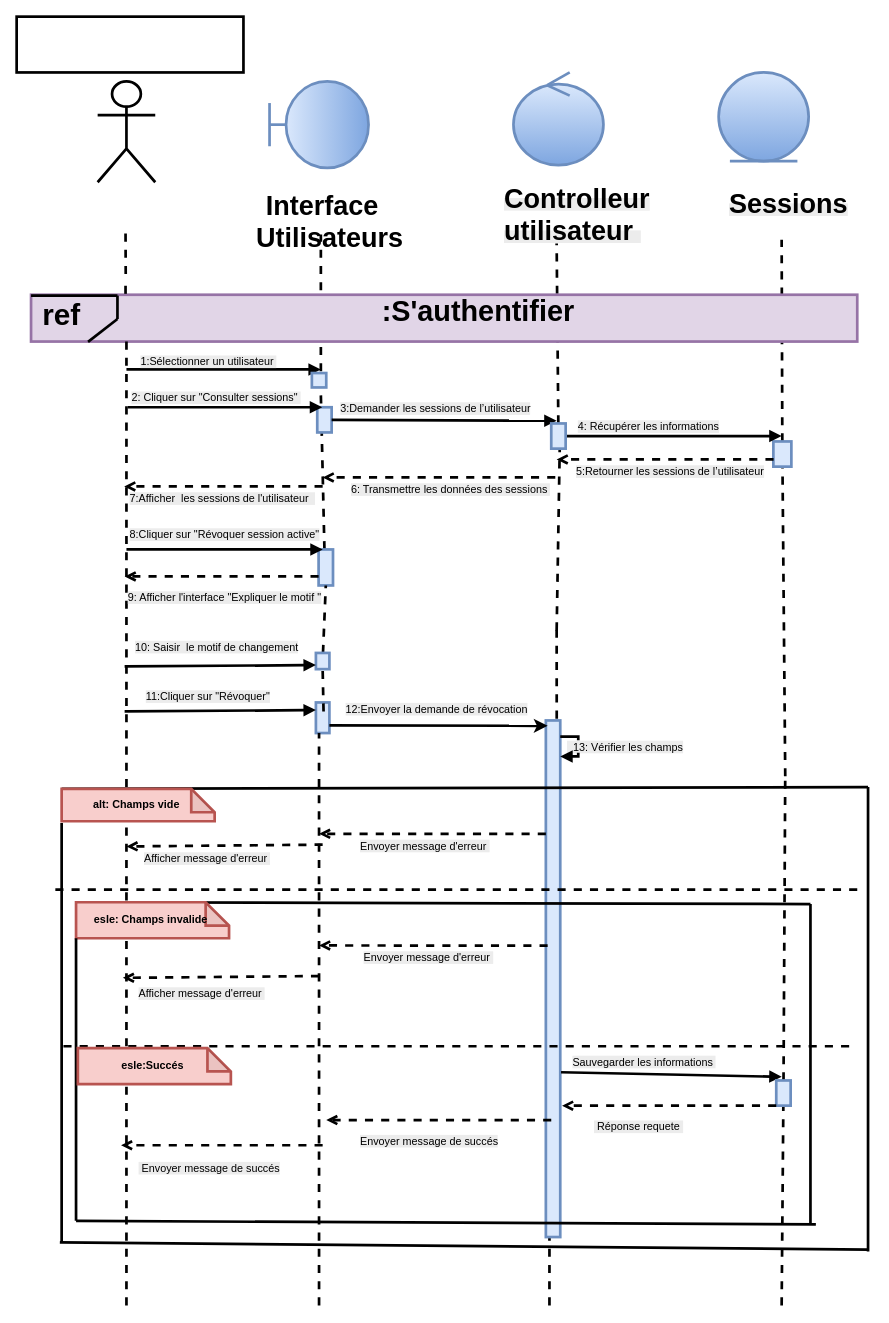
This 889x1323 diagram has some shape labels left out. Each missing label, with the centre of its shape:
"Magasinier" goes at (126,131).
"sd :Révoquer session" goes at (129,44).
